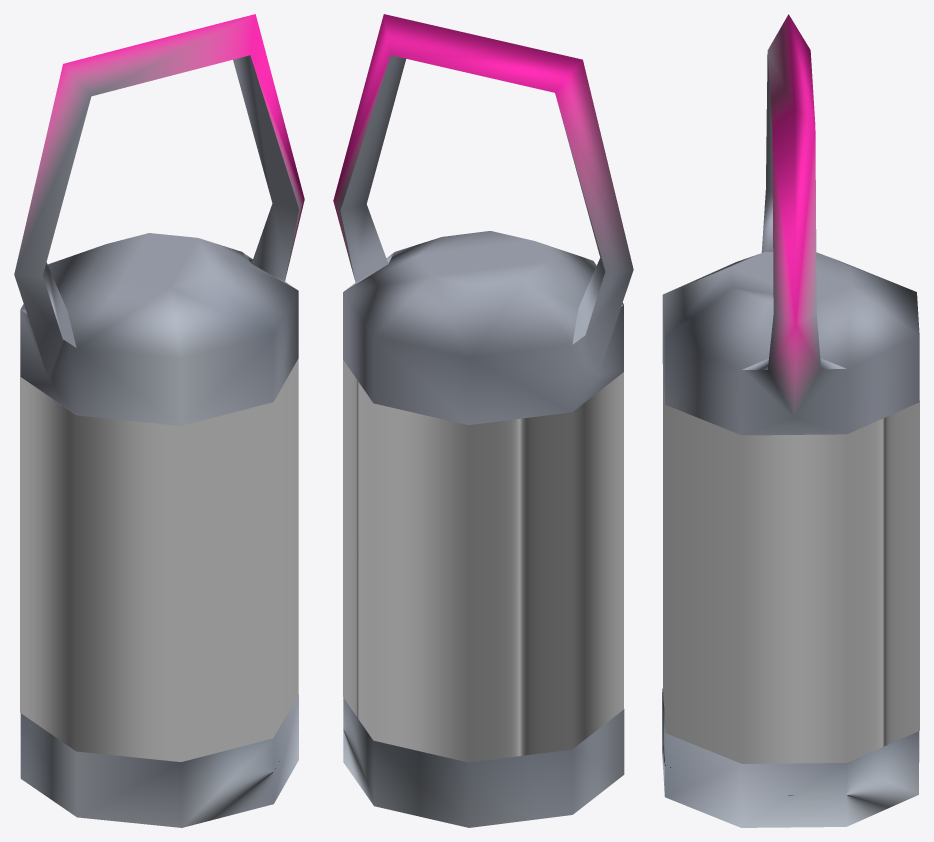
File: fghf.hrc.gltf
The picture shows the model from 3 angles, left to right: view 1: azimuth 30°, elevation 25°; view 2: azimuth 150°, elevation 25°; view 3: azimuth 270°, elevation 25°; orthographic projection. The views are drawn at different scales.
Parts seen in each view (by area): view 1: fghfBone0_null; view 2: fghfBone0_null; view 3: fghfBone0_null.
Boxes of the visible parts, box(x1,y1,x2,y2) form: fghfBone0_null: box(14, 14, 304, 827); fghfBone0_null: box(333, 14, 633, 827); fghfBone0_null: box(662, 14, 919, 827).
Size of the model in its own units: 7.49 by 17.72 by 5.81.
